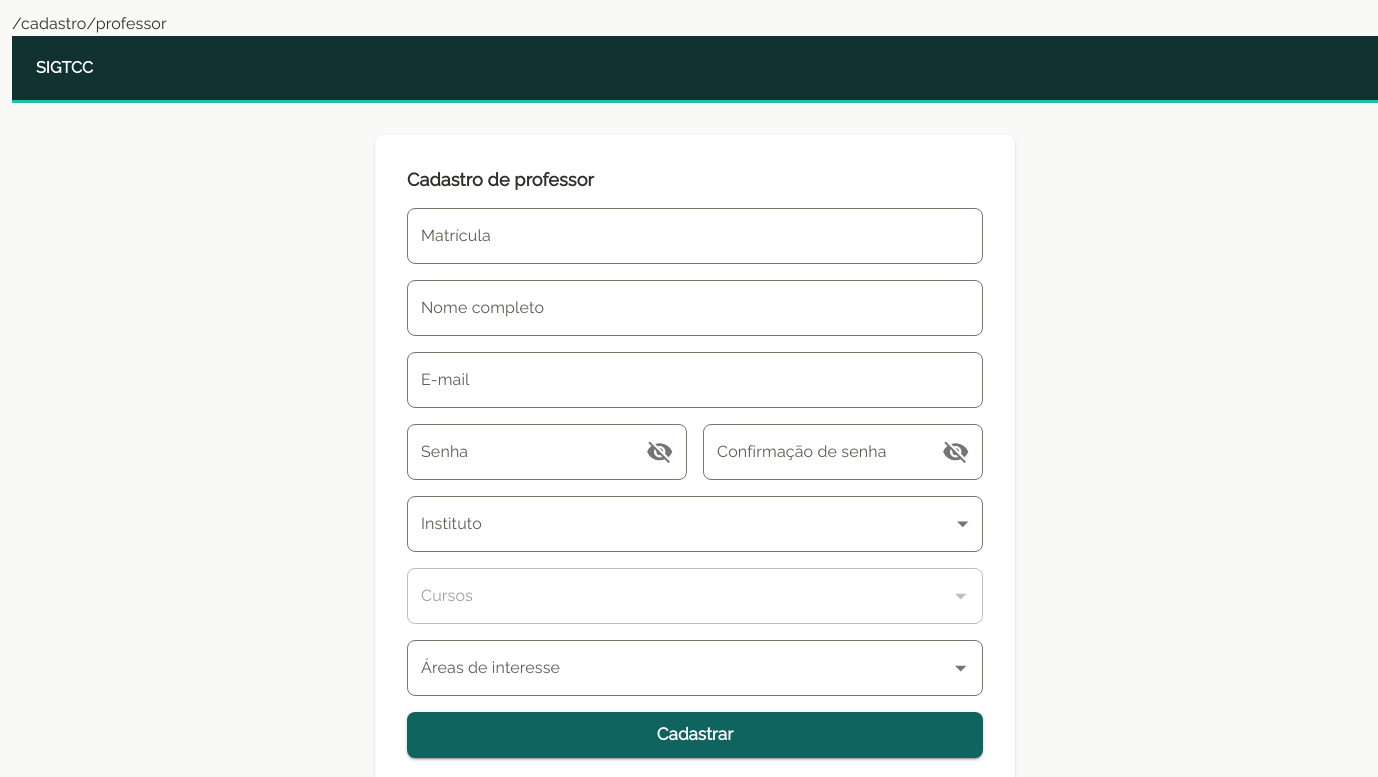
Scenario: TeacherRegistrationPage › lista só os cursos do instituto escolhido
Expected: the heading "Cadastro de professor" is shown, 407,169 -> 594,190
Step 1. Click the dropdown named "Instituto" → (695, 524), box 407,496 -> 983,552
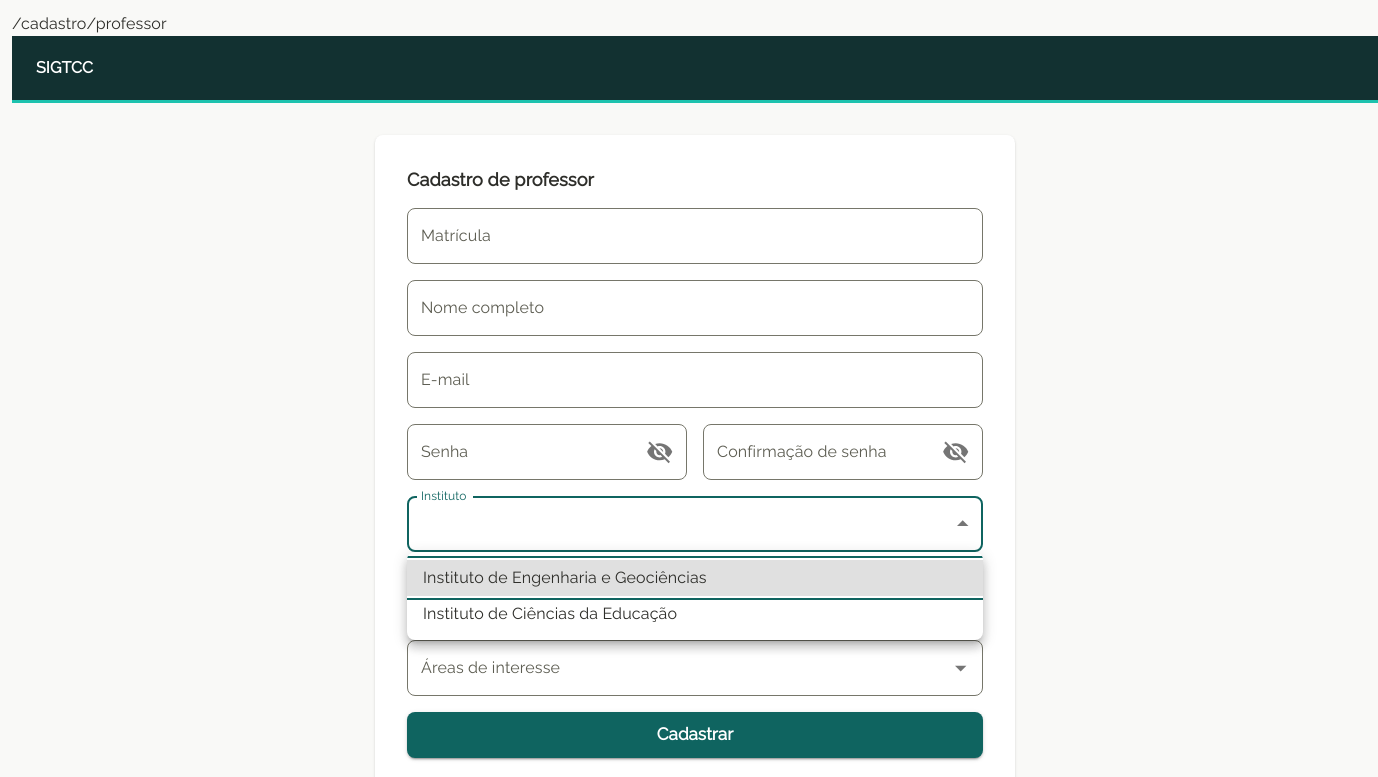
Step 2. Click the option "Instituto de Ciências da Educação" → (550, 614), box 423,604 -> 677,623
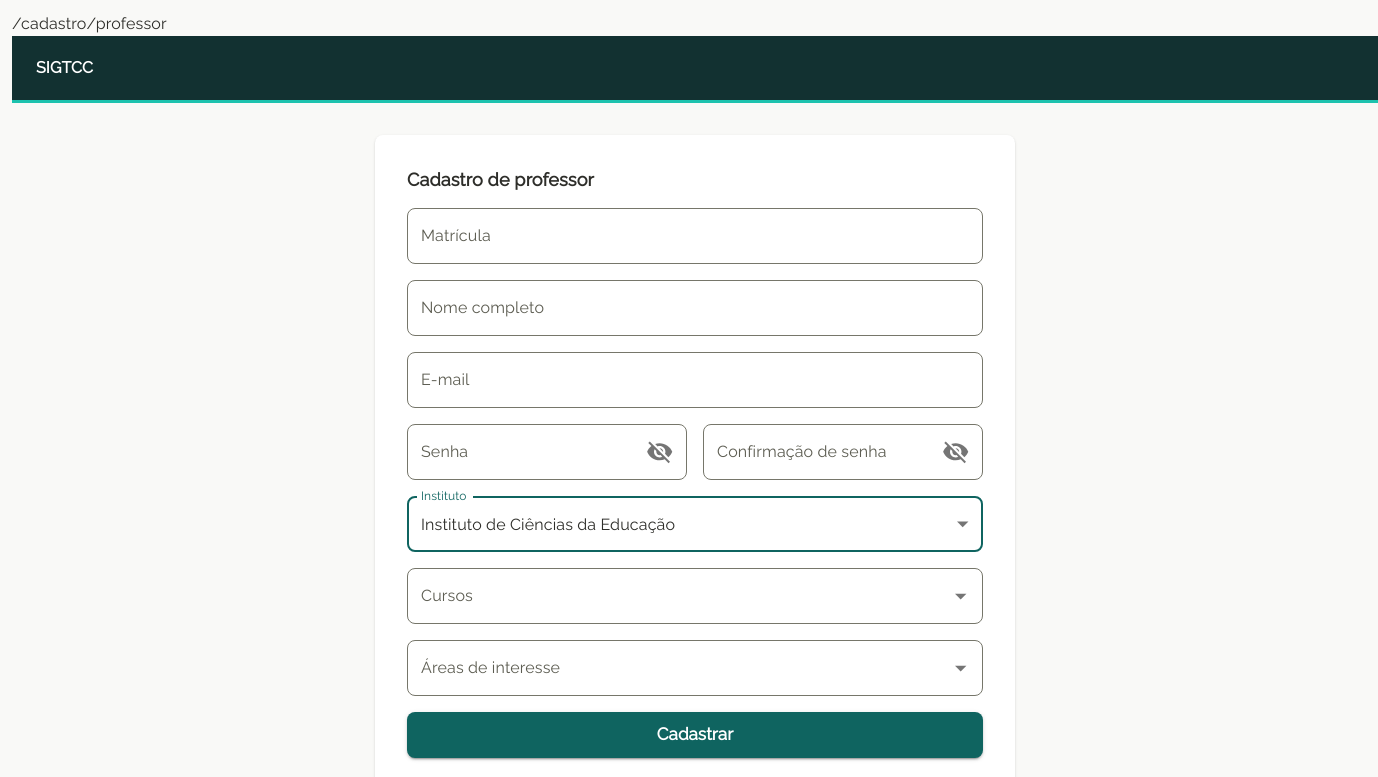
Step 3. Click the dropdown labelled "Cursos" → (680, 596), box 416,577 -> 944,615
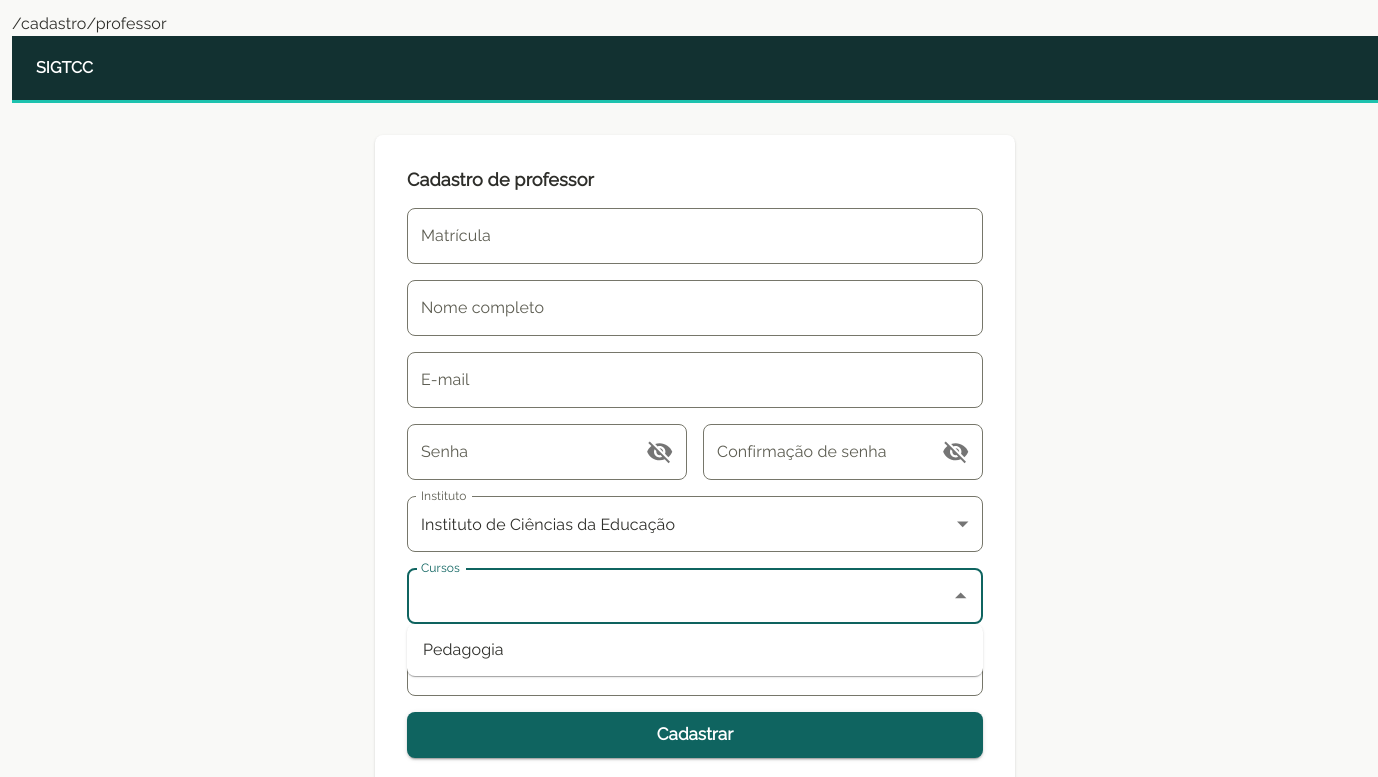
Expected: the options read "Pedagogia", in this order, 423,640 -> 504,659
